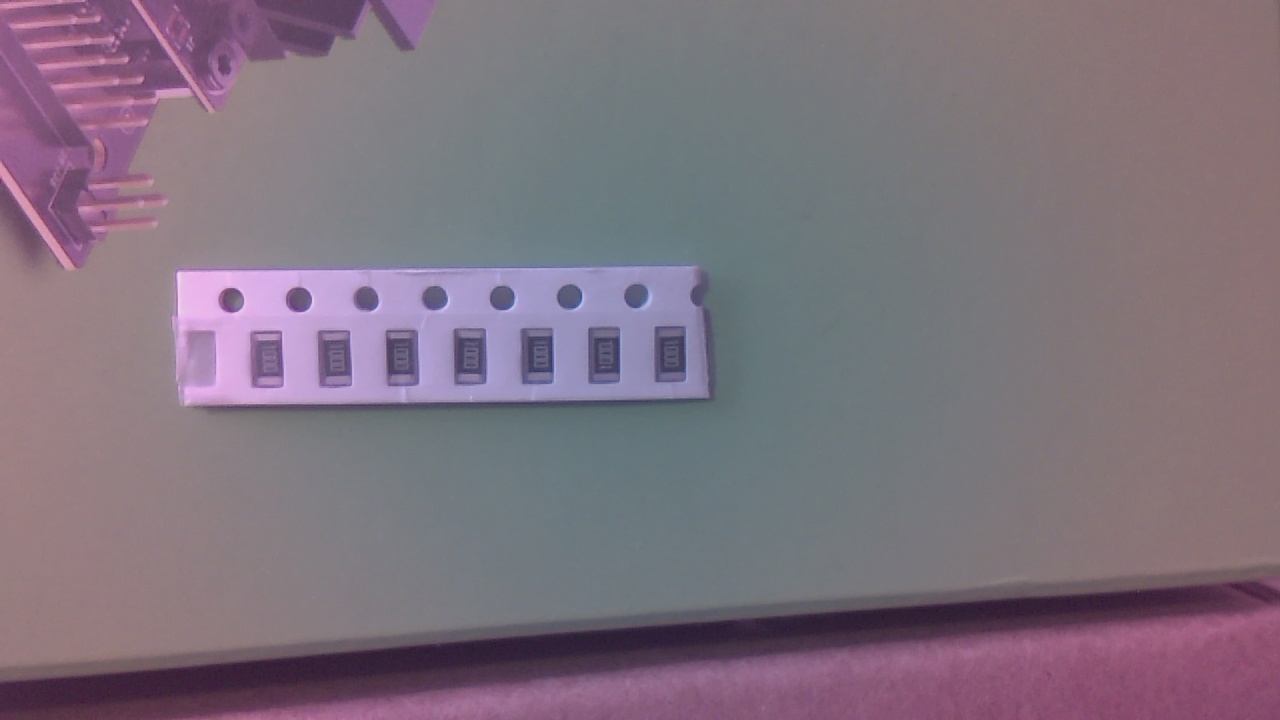Resistor: (526, 330, 561, 388), (255, 337, 290, 394), (659, 330, 691, 390), (459, 336, 494, 390), (324, 336, 356, 393), (391, 336, 423, 390), (593, 334, 625, 388)
